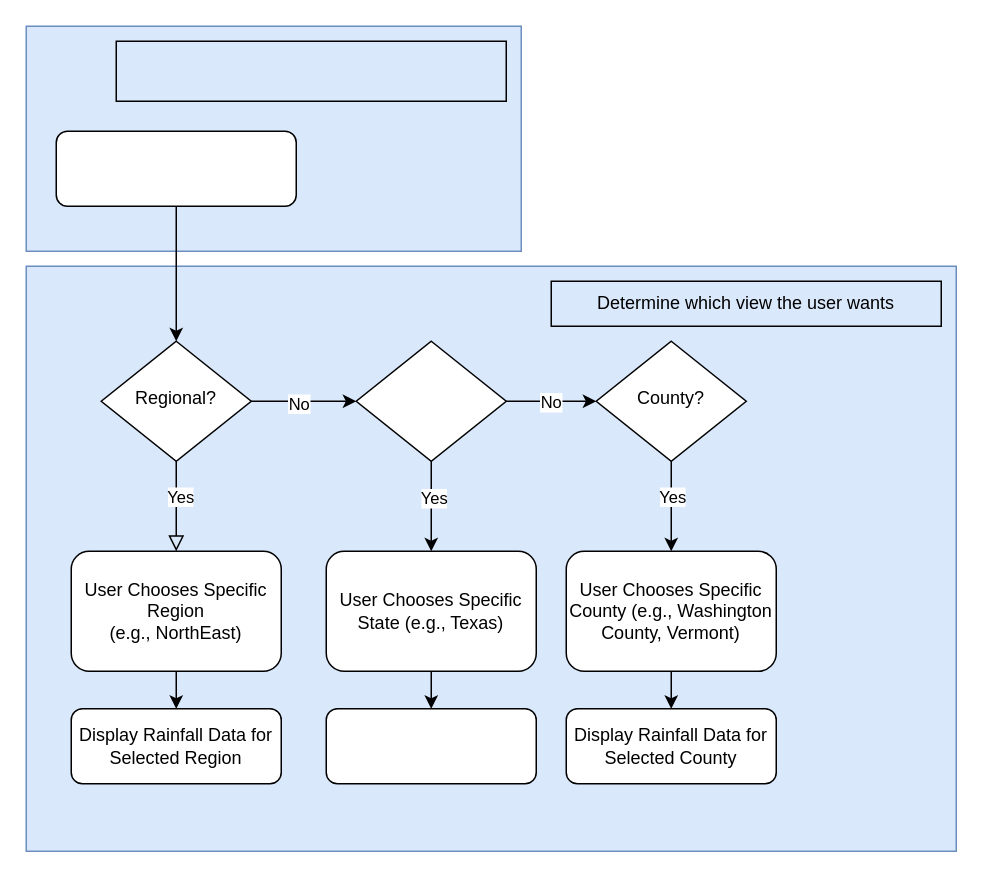
Some shapes in this 983 by 878 pixel diagram are drawn without their labels. The box of each missing label's shape, as (x1, y1, x2, y2) in pixels:
Display Rainfall Data for Selected State: (325, 707, 536, 784)
State?: (355, 340, 506, 461)
User opens Precipi-Tracker via web browser: (55, 130, 296, 206)
User wants to view precipitation data via Precipi-Tracker: (115, 40, 506, 101)
